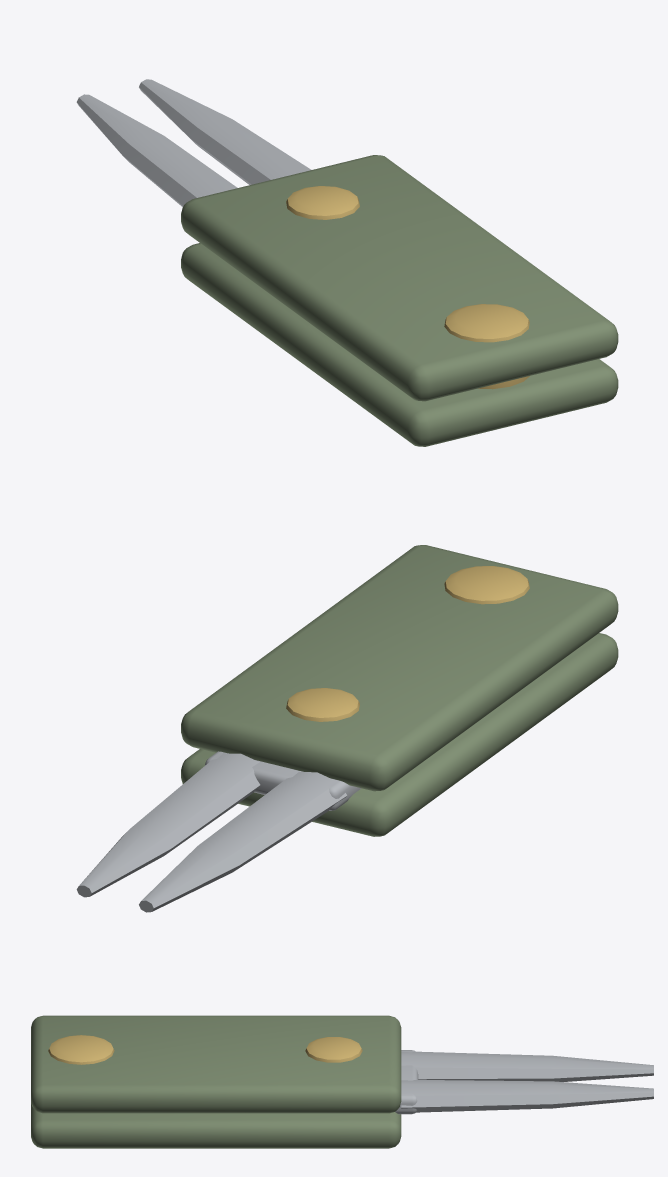
File: pf_divot_folding_sage.glb
3 renders of one model, top to bottom at view 1: azimuth 30°, elevation 25°; view 2: azimuth 150°, elevation 25°; view 3: azimuth 270°, elevation 25°, orthographic. The views are drawn at different scales.
Visible parts, largest first — view 1: pf_divot_folding_sage_body; view 2: pf_divot_folding_sage_body; view 3: pf_divot_folding_sage_body.
Part boxes in pixels (left/top/right/bottom): pf_divot_folding_sage_body: left=76, top=79, right=618, bottom=446; pf_divot_folding_sage_body: left=76, top=545, right=618, bottom=912; pf_divot_folding_sage_body: left=31, top=1015, right=653, bottom=1148.
Size of the model in its own units: 0.026 by 0.0112 by 0.076.
4 materials, 1 textured.
